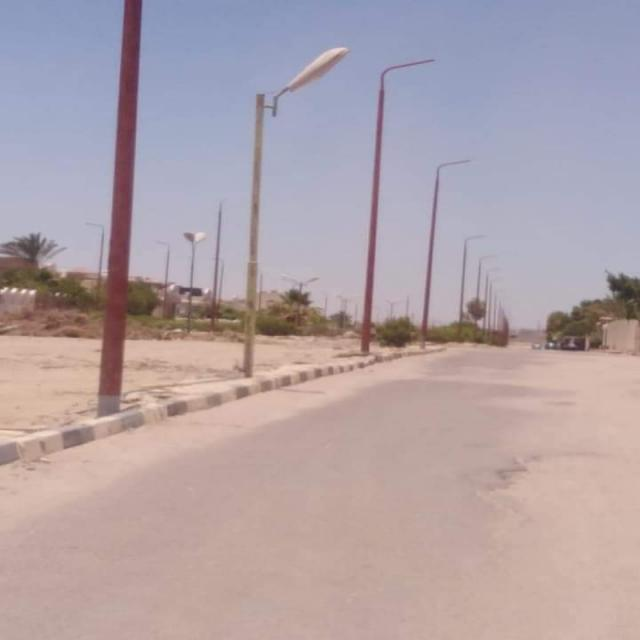Lamppost: (201, 51, 303, 384), (89, 2, 151, 410), (354, 48, 400, 365), (409, 128, 457, 357)
